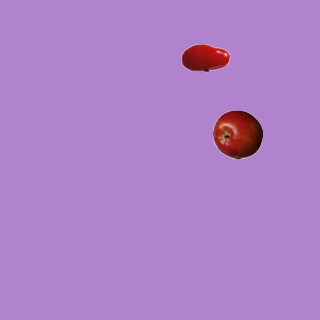Apple Braeburn: (212, 109, 262, 159)
Tomato 2: (180, 32, 230, 82)
